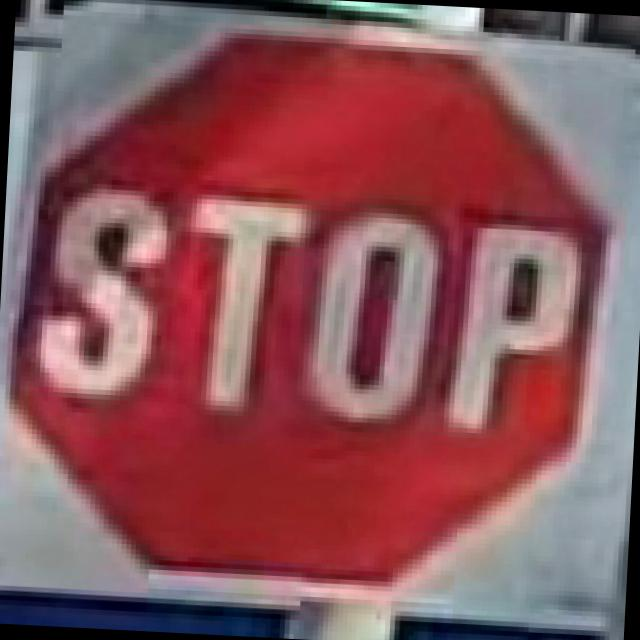mandatorystop_sign: (0, 8, 631, 612)
